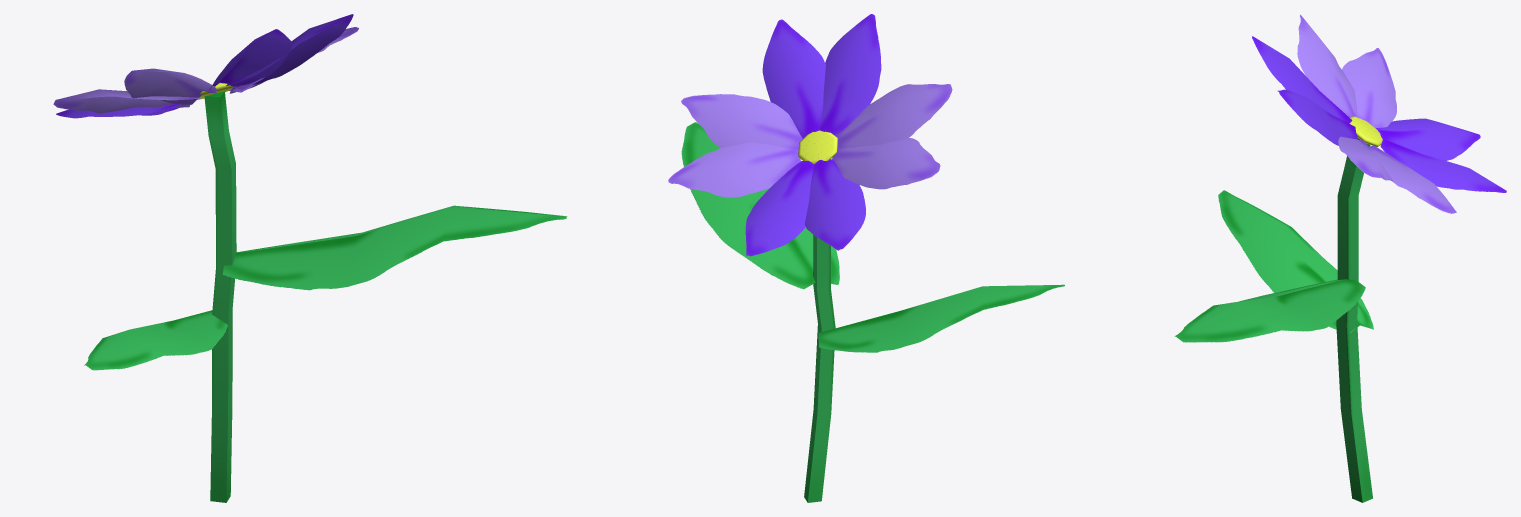
File: SM_Flowers_03.fbx
The picture shows the model from 3 angles, left to right: view 1: azimuth 30°, elevation 25°; view 2: azimuth 150°, elevation 25°; view 3: azimuth 270°, elevation 25°; orthographic projection. The views are drawn at different scales.
Visible parts, largest first — view 1: SM_Flowers_03; view 2: SM_Flowers_03; view 3: SM_Flowers_03.
Part boxes in pixels (x1,y1,x2,y2): SM_Flowers_03: [53, 14, 567, 502]; SM_Flowers_03: [668, 14, 1064, 502]; SM_Flowers_03: [1174, 14, 1506, 502].
Bounding box in the file's own units: 7.71 × 6.95 × 5.63.
